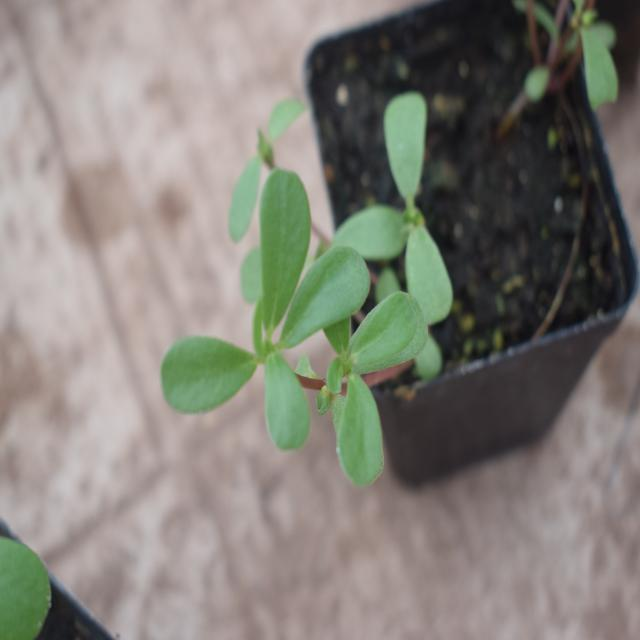purslane: (158, 64, 478, 509)
